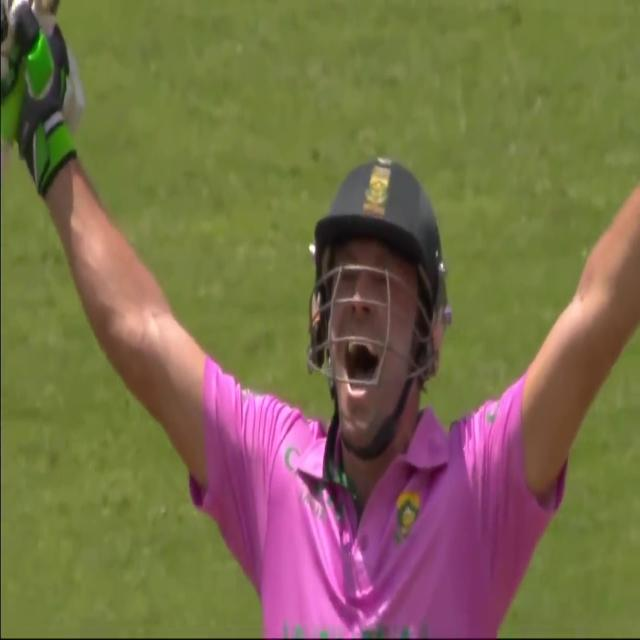Ball: (162, 5, 588, 640)
